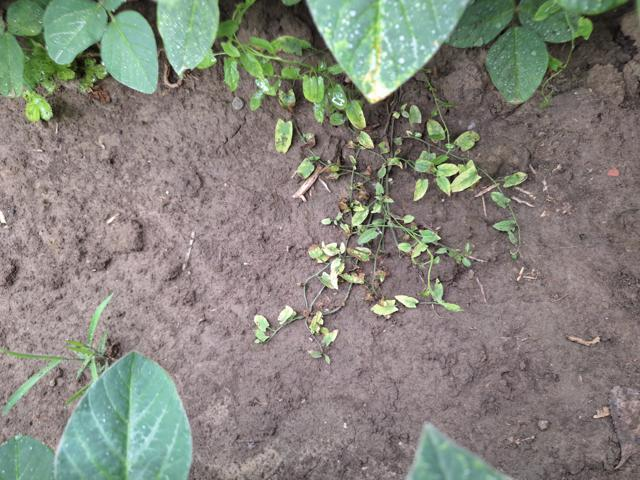bad weed: (198, 26, 540, 343), (11, 290, 137, 410)
